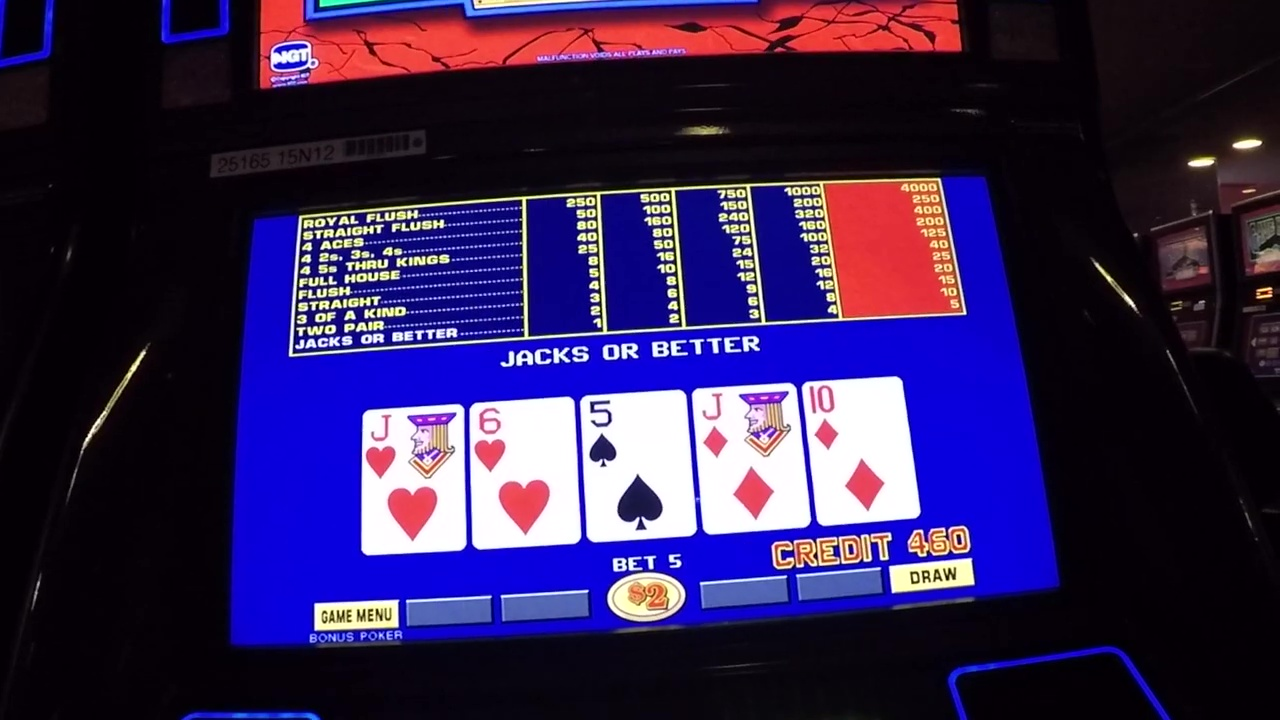DJ: (698, 389, 798, 458)
DT: (806, 381, 907, 460)
H6: (473, 405, 571, 475)
HJ: (367, 412, 463, 481)
S5: (585, 400, 686, 464)
